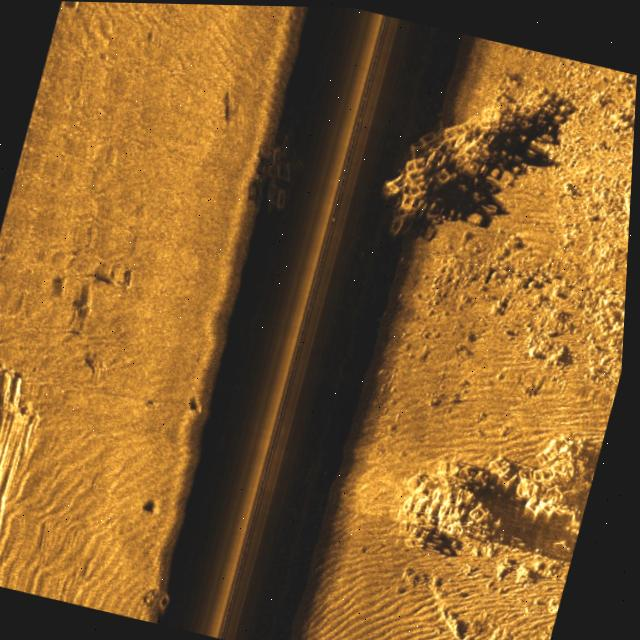artificial reef: (377, 57, 582, 265), (399, 391, 596, 575), (241, 122, 321, 219), (145, 580, 179, 622)
